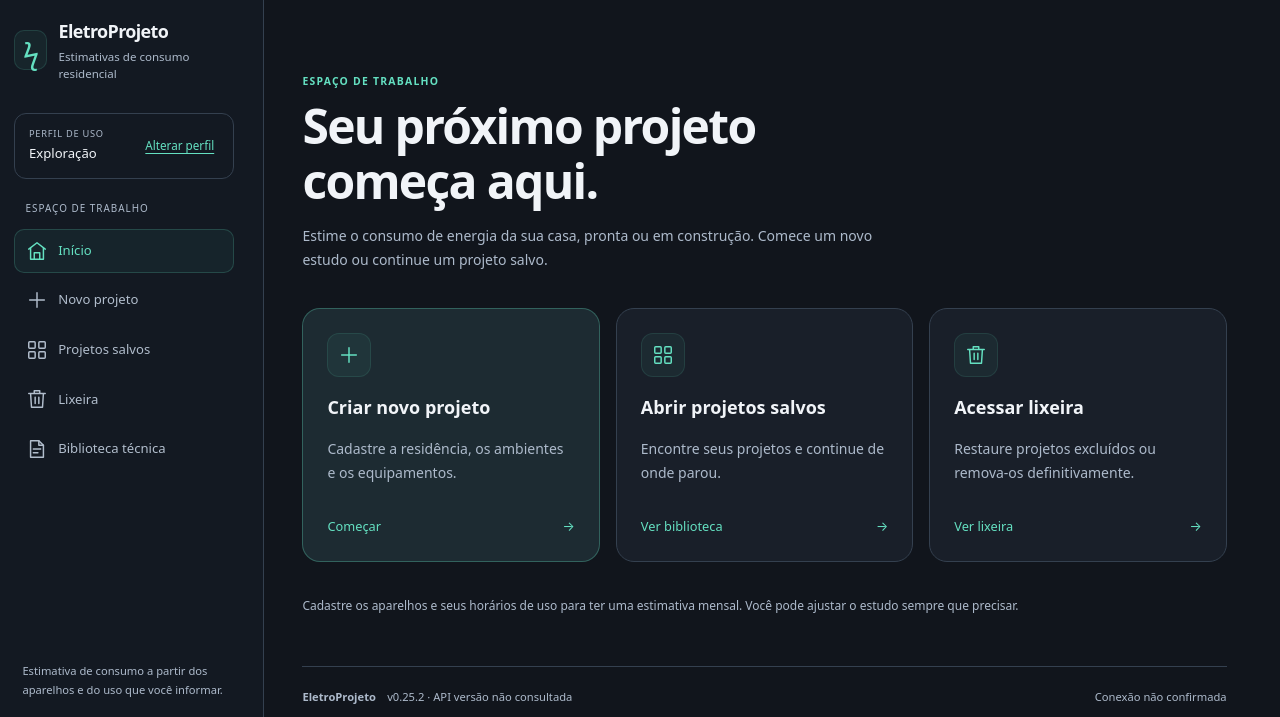
it: PDF is primary, exports the current snapshot and is blocked while recalculating
The width and height of the screenshot is (1280, 717).
Click the button "Criar novo projeto".
click(349, 355)  # box x1=302 y1=308 x2=600 y2=562
Wait 400 ms
(page scrolled)
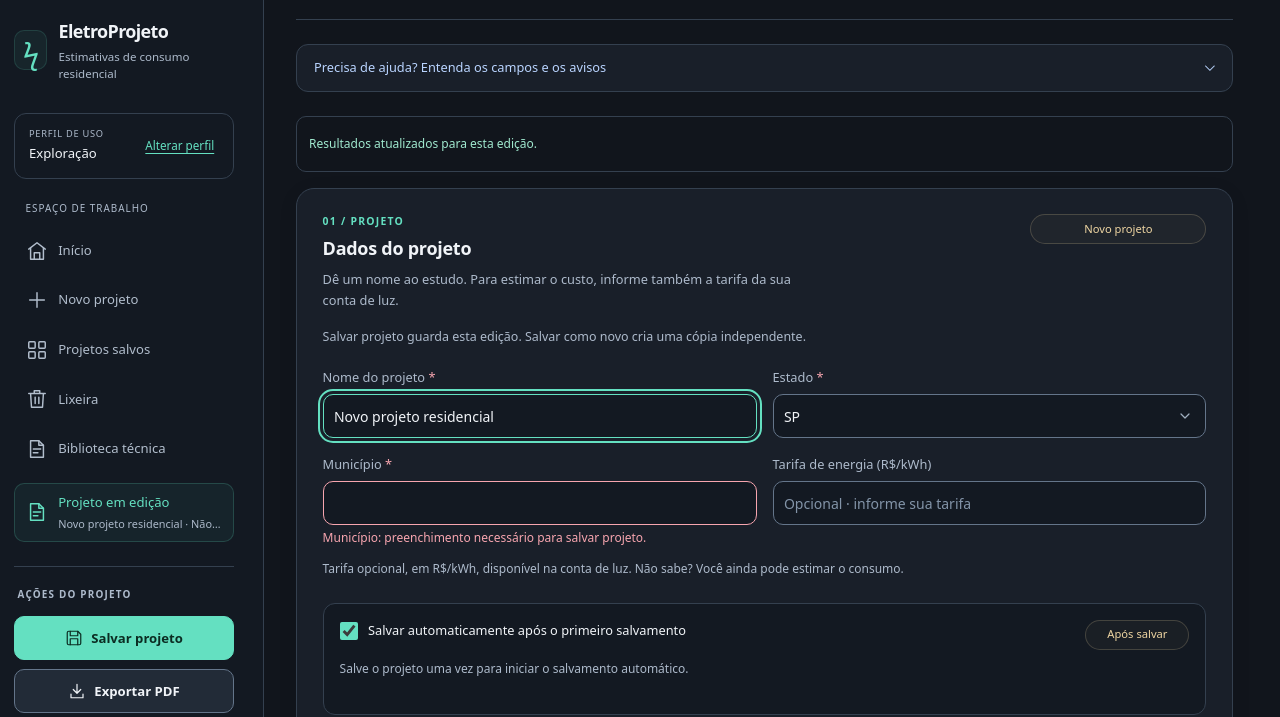
Result: the button "Exportar PDF" is enabled
Click the button "Exportar PDF".
click(124, 691)  # box x1=14 y1=669 x2=234 y2=713
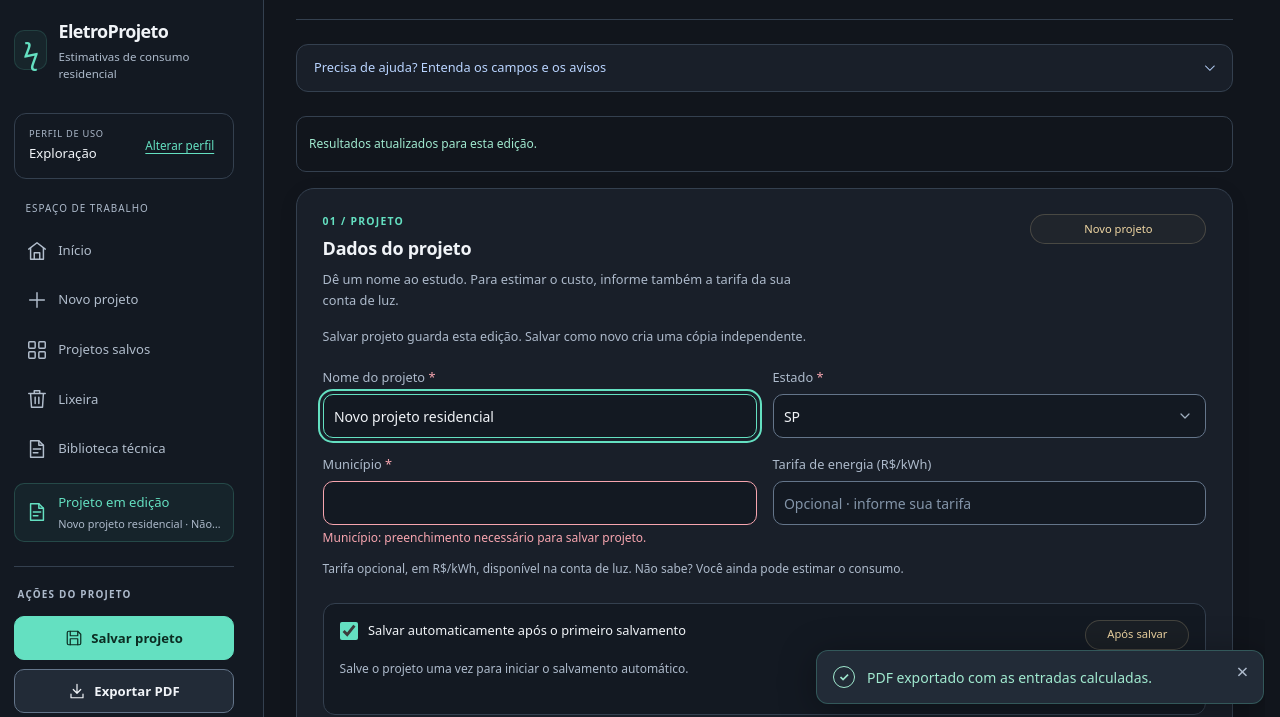
Type "Novo município" into the field labelled "Município".
click(540, 503); type("Novo município")  # box x1=323 y1=481 x2=756 y2=525
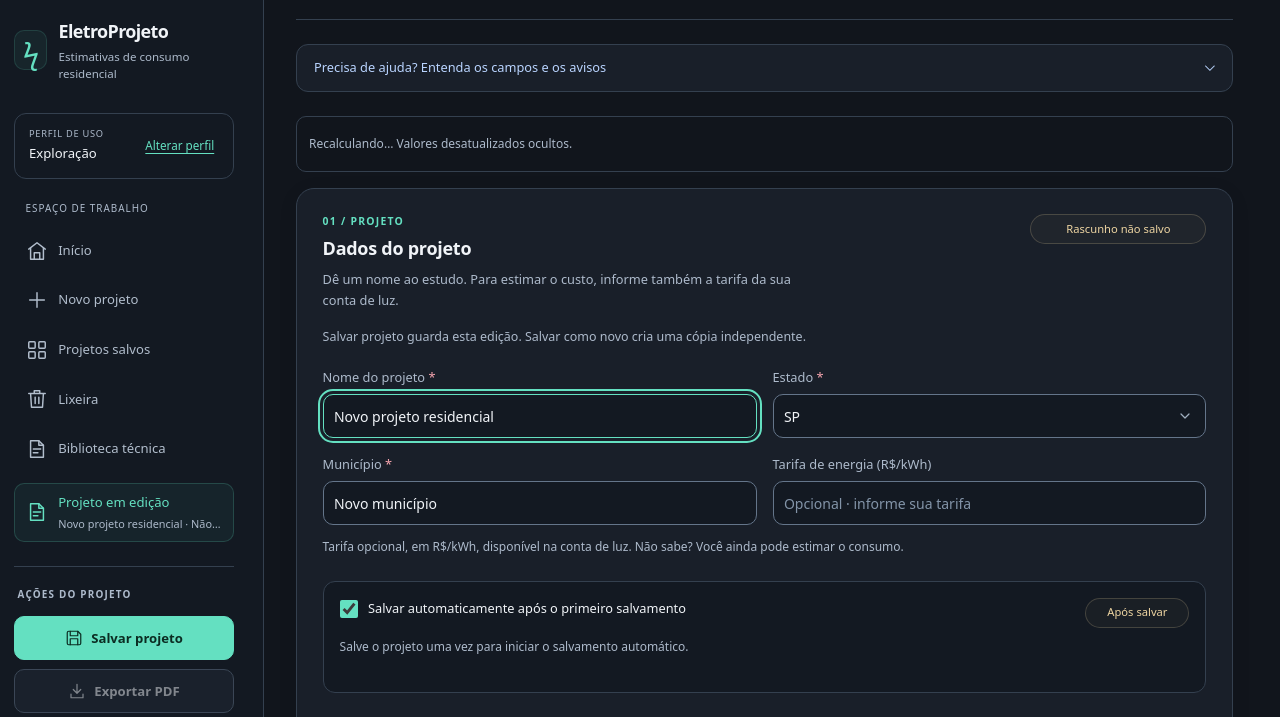
Result: the button "Exportar PDF" is disabled at x1=14 y1=669 x2=234 y2=713
